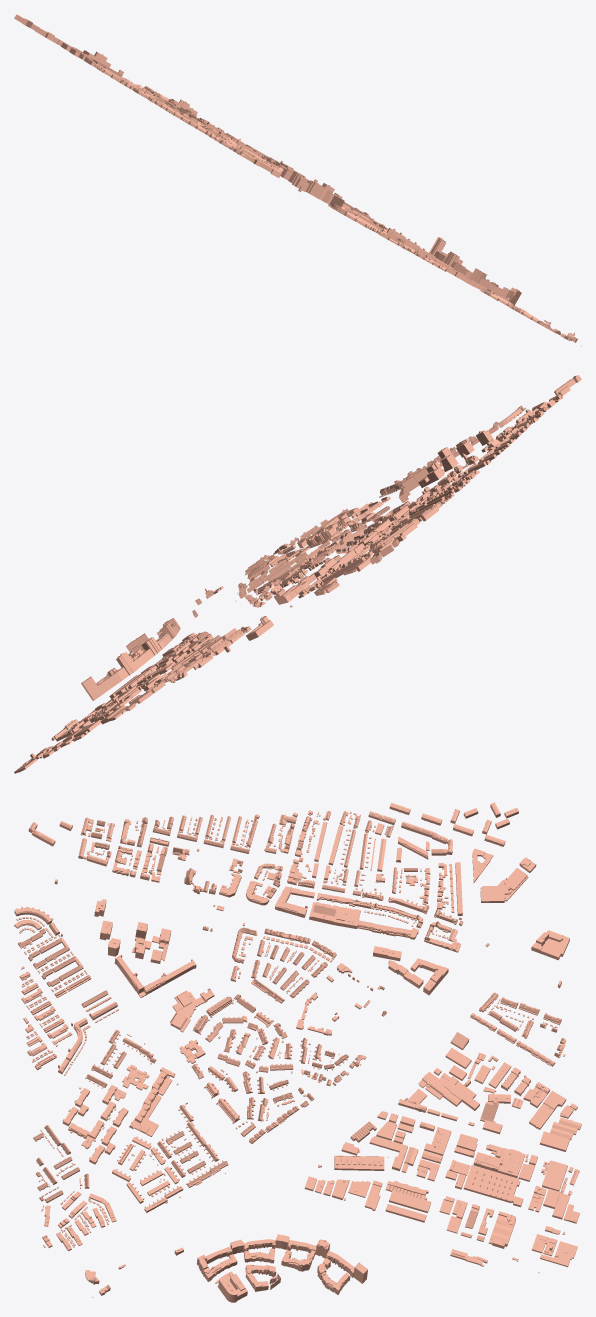
3 views of the same model, one above another, from view 1: azimuth 30°, elevation 25°; view 2: azimuth 150°, elevation 25°; view 3: azimuth 270°, elevation 25° (orthographic). The views are drawn at different scales.
Bounding box in the file's own units: 3.41e+07 × 2.49e+07 × 4.14e+07.
